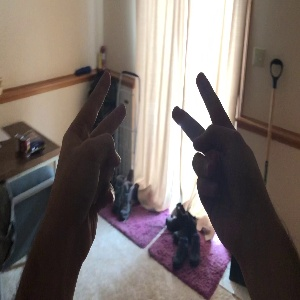hand: (172, 72, 280, 256), (44, 71, 126, 253)
